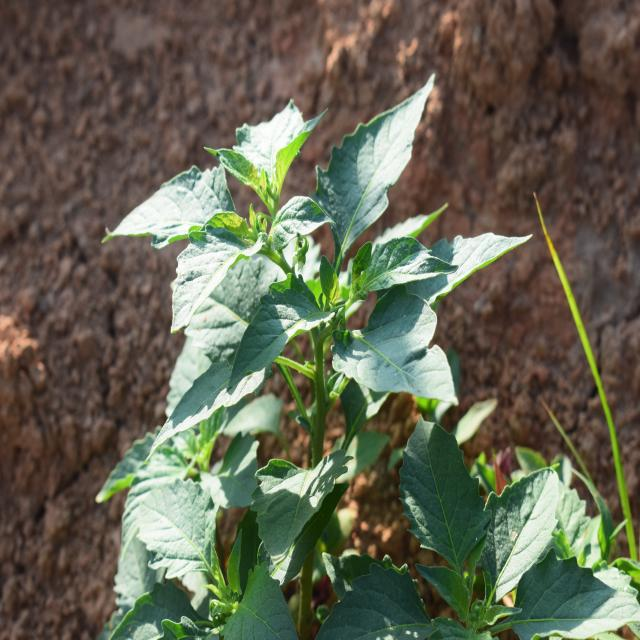Black_nightshade: (136, 107, 483, 483), (365, 443, 625, 638), (133, 392, 308, 626)
